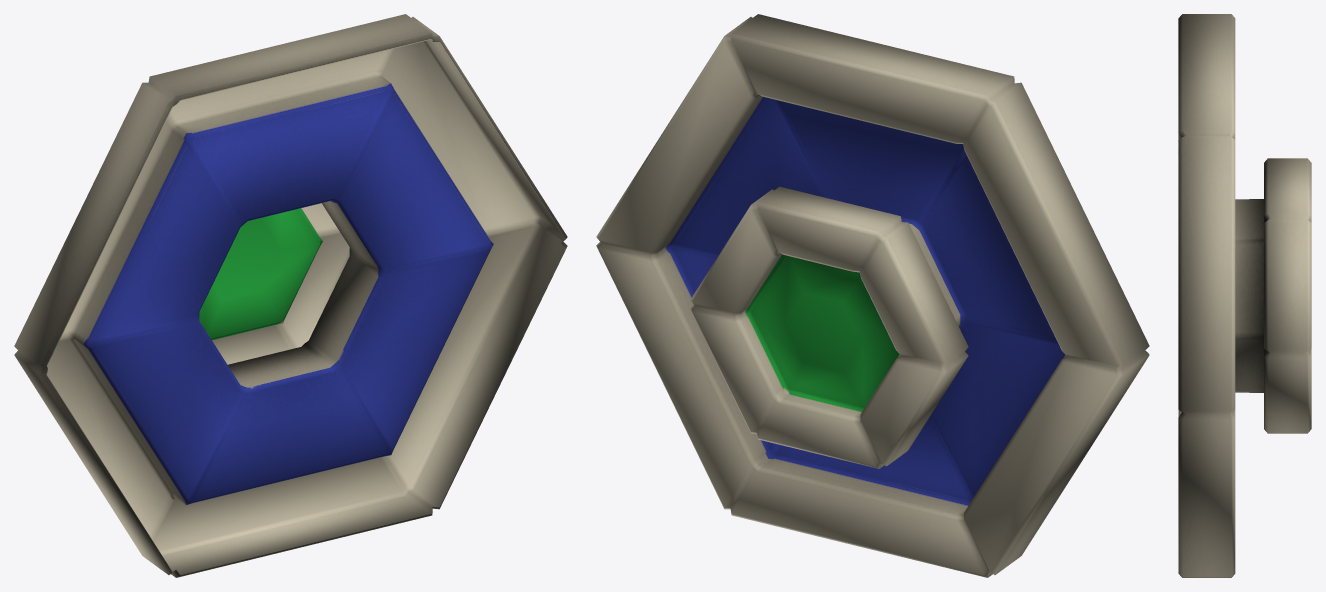
Rendered from fountain.fbx.
3 views of the same model, side by side, from view 1: azimuth 30°, elevation 25°; view 2: azimuth 150°, elevation 25°; view 3: azimuth 270°, elevation 25° (orthographic). The views are drawn at different scales.
Parts seen in each view (by area): view 1: Cube; view 2: Cube; view 3: Cube.
Boxes of the visible parts, x1,y1,x2,y2 form: Cube: [14, 14, 567, 577]; Cube: [596, 14, 1149, 577]; Cube: [1178, 14, 1311, 577].
Bounding box in the file's own units: 59454 × 51962 × 14000.
